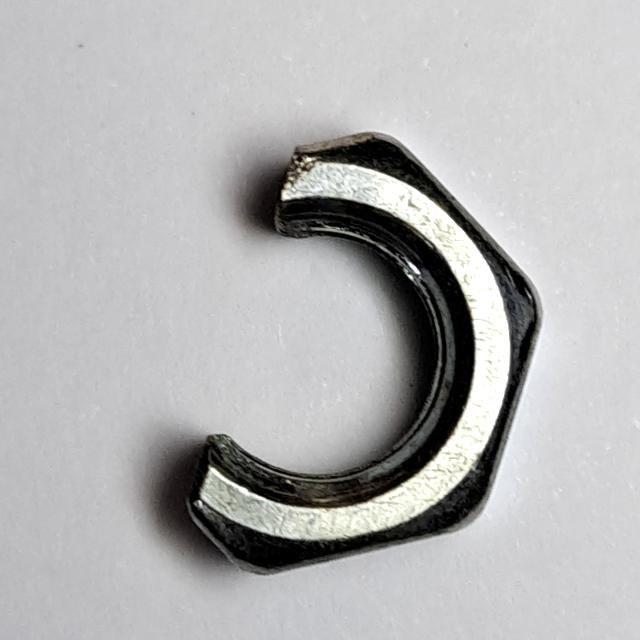Fracture: (174, 115, 556, 593)
